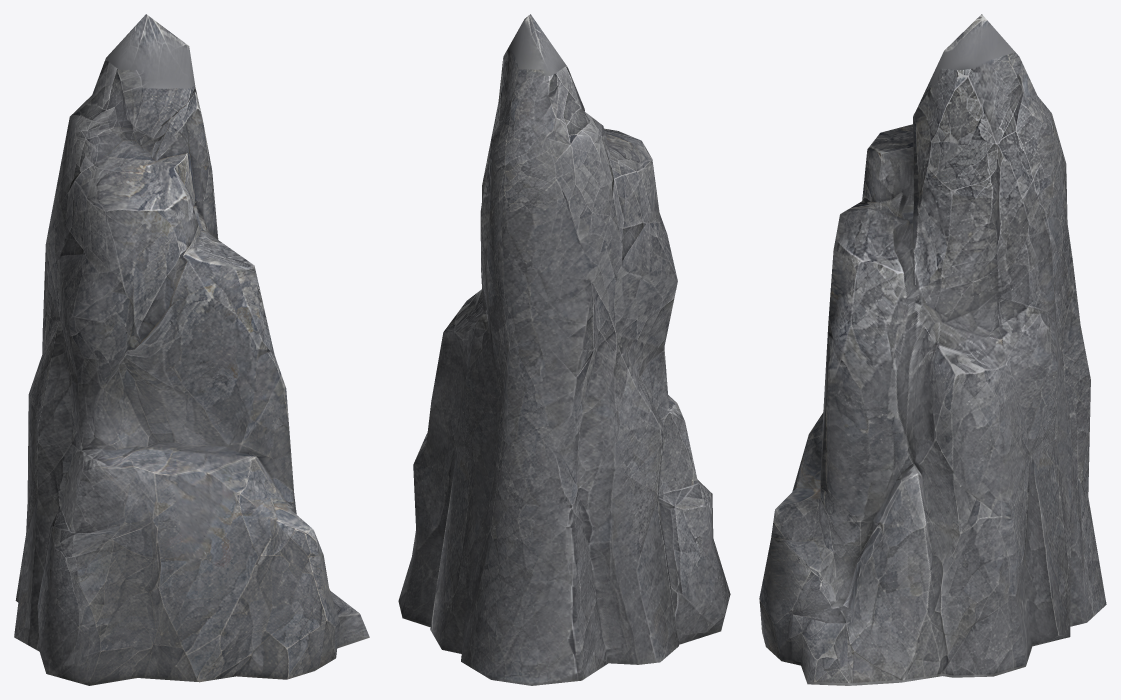
Rendered from rock_b.glb.
The picture shows the model from 3 angles, left to right: view 1: azimuth 30°, elevation 25°; view 2: azimuth 150°, elevation 25°; view 3: azimuth 270°, elevation 25°; orthographic projection. The views are drawn at different scales.
Parts seen in each view (by area): view 1: tripo_node_b3e29e96-b04c-4525-aa58-8871cfbc00c4; view 2: tripo_node_b3e29e96-b04c-4525-aa58-8871cfbc00c4; view 3: tripo_node_b3e29e96-b04c-4525-aa58-8871cfbc00c4.
Part boxes in pixels (x1,y1,x2,y2): tripo_node_b3e29e96-b04c-4525-aa58-8871cfbc00c4: [14, 14, 369, 685]; tripo_node_b3e29e96-b04c-4525-aa58-8871cfbc00c4: [398, 14, 730, 685]; tripo_node_b3e29e96-b04c-4525-aa58-8871cfbc00c4: [759, 14, 1106, 685].
Size of the model in its own units: 0.5059 by 0.998 by 0.5215.
Materials: 1 (1 with a texture image).
